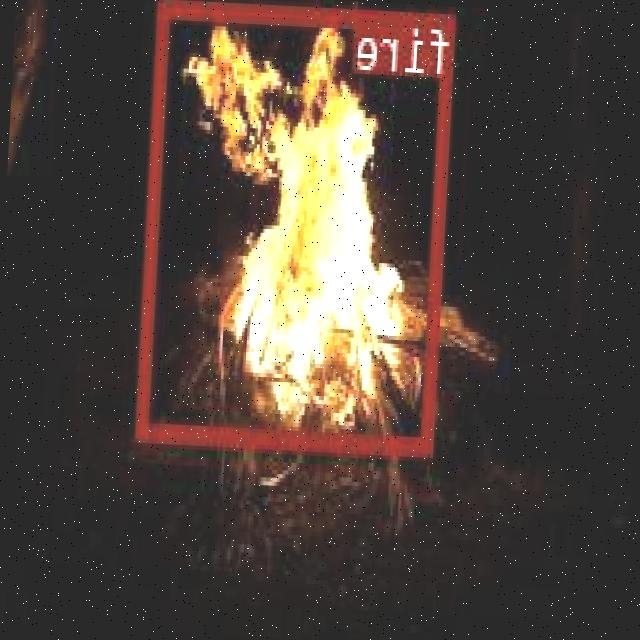fire: (139, 0, 458, 451)
